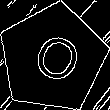O_SW: (22, 26, 83, 90)
